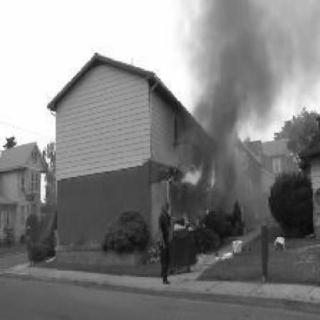Fire: (163, 139, 214, 229)
